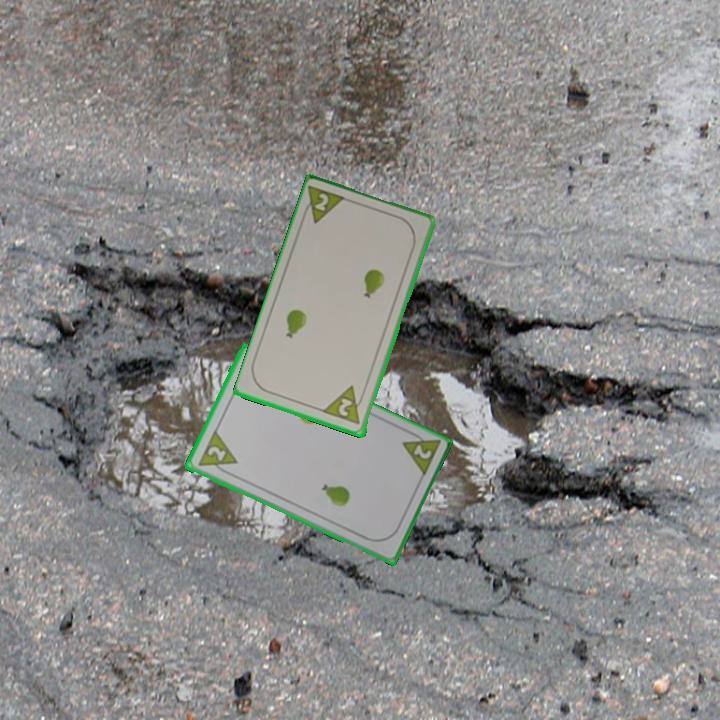2p: (398, 426, 443, 480), (193, 428, 240, 479), (298, 182, 350, 227), (321, 383, 369, 428)
